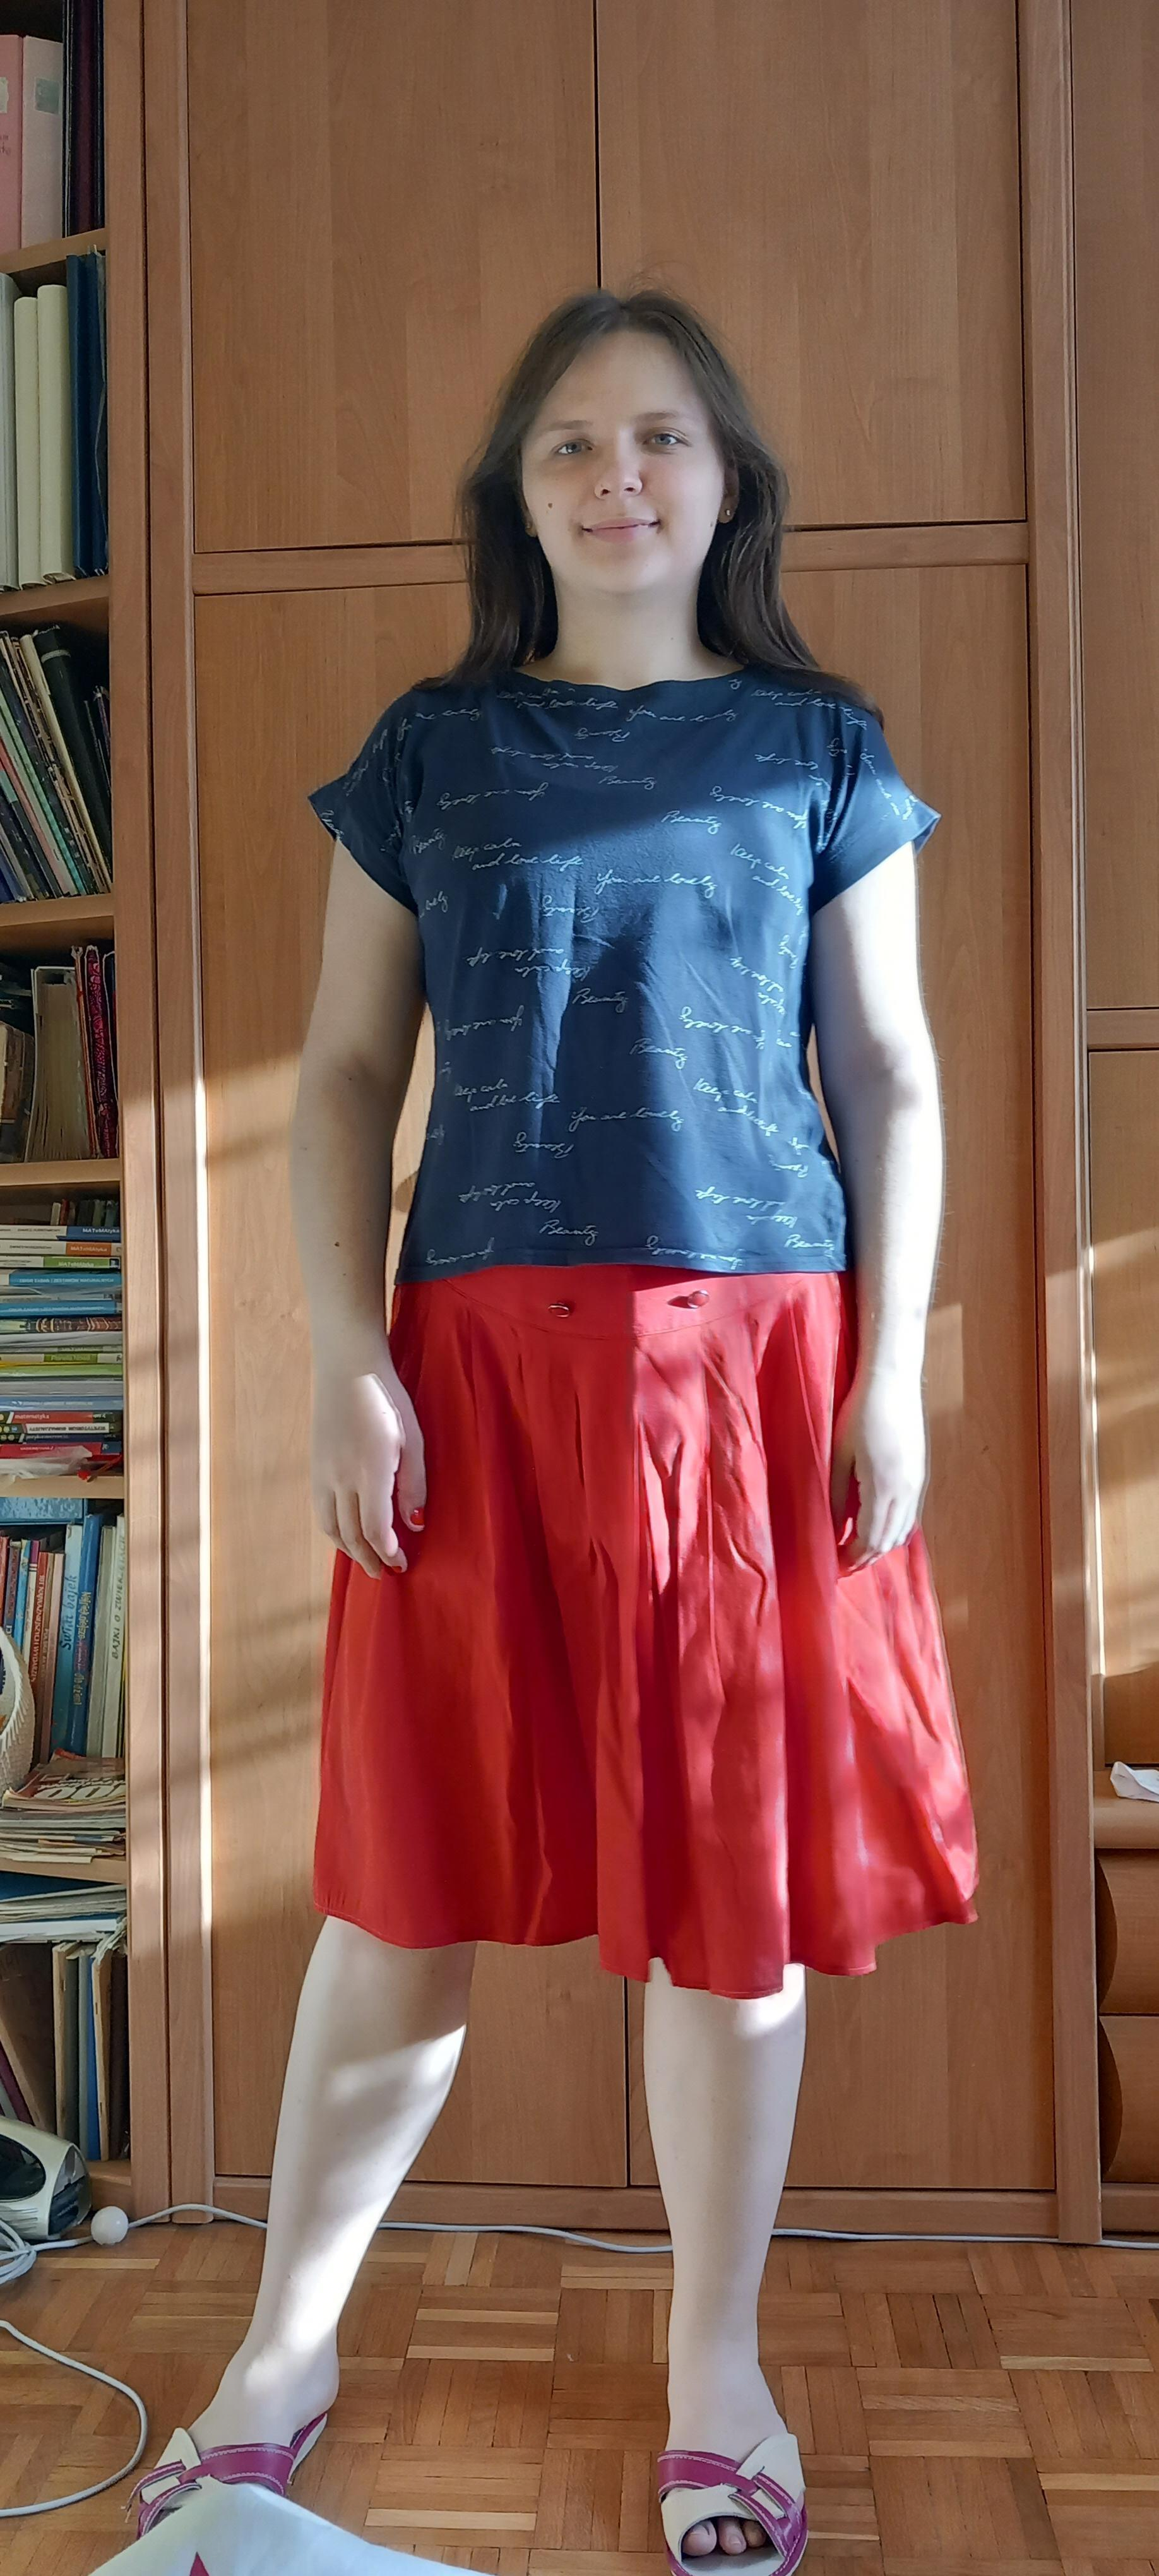Tshirt: (305, 672, 942, 1281)
skirt: (312, 1263, 978, 1998)
